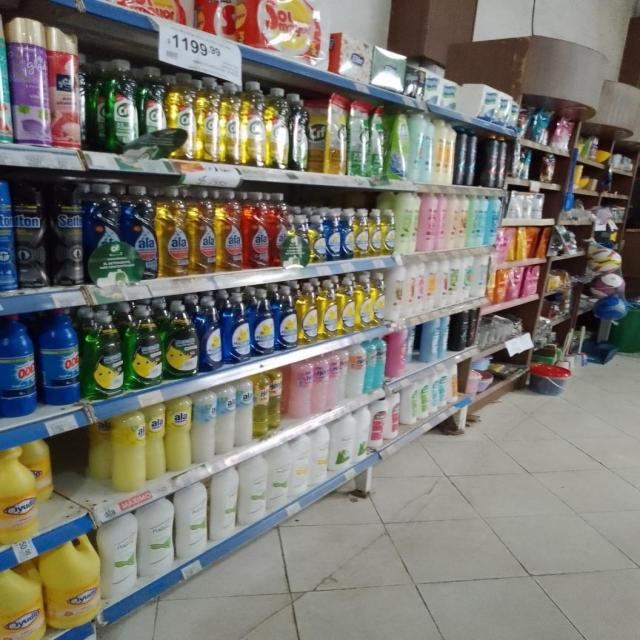ala_conc_amarillo: (157, 186, 188, 278), (189, 188, 215, 275), (216, 189, 242, 272)
ala_conc_azul: (85, 182, 122, 285), (124, 185, 157, 282)
ala_conc_rojo: (244, 191, 270, 269), (271, 192, 290, 267)
ala_crem_amarillo: (111, 408, 145, 492), (166, 396, 191, 473), (146, 402, 166, 482)
ala_crem_blanco: (192, 388, 215, 464), (217, 382, 235, 456), (236, 378, 254, 448)
cif_conc_bot_amarilla: (169, 72, 195, 161), (241, 80, 266, 168), (196, 78, 220, 163), (267, 86, 289, 170), (221, 81, 240, 165)
cif_conc_botella_verde: (103, 59, 138, 154), (139, 65, 168, 159)
heroe: (289, 359, 312, 419), (254, 370, 270, 442), (313, 353, 330, 414), (348, 342, 365, 398), (270, 367, 284, 434), (389, 327, 406, 379), (366, 336, 379, 393), (331, 349, 342, 408), (375, 336, 386, 390)
magistral_con_amarillo: (298, 282, 318, 344), (319, 279, 338, 339), (339, 274, 355, 334), (293, 211, 309, 266), (310, 209, 326, 263), (356, 273, 371, 329), (371, 271, 386, 326), (355, 208, 369, 258), (382, 208, 396, 256), (369, 208, 381, 256)
magistral_con_azul: (39, 308, 81, 406), (223, 292, 250, 364), (199, 295, 222, 372), (250, 287, 274, 356), (276, 284, 297, 350), (327, 207, 341, 261), (342, 208, 354, 260)
magistral_con_verde: (84, 309, 124, 399), (126, 304, 163, 388)
